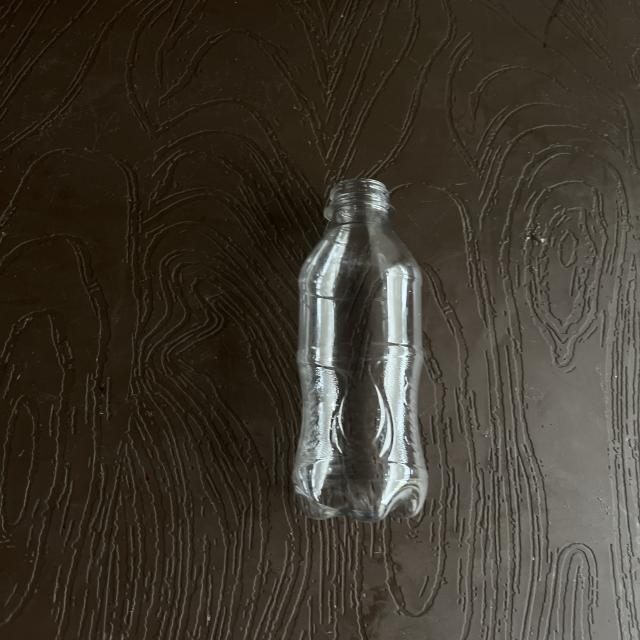PET_ClearBottle: (278, 170, 441, 629)
